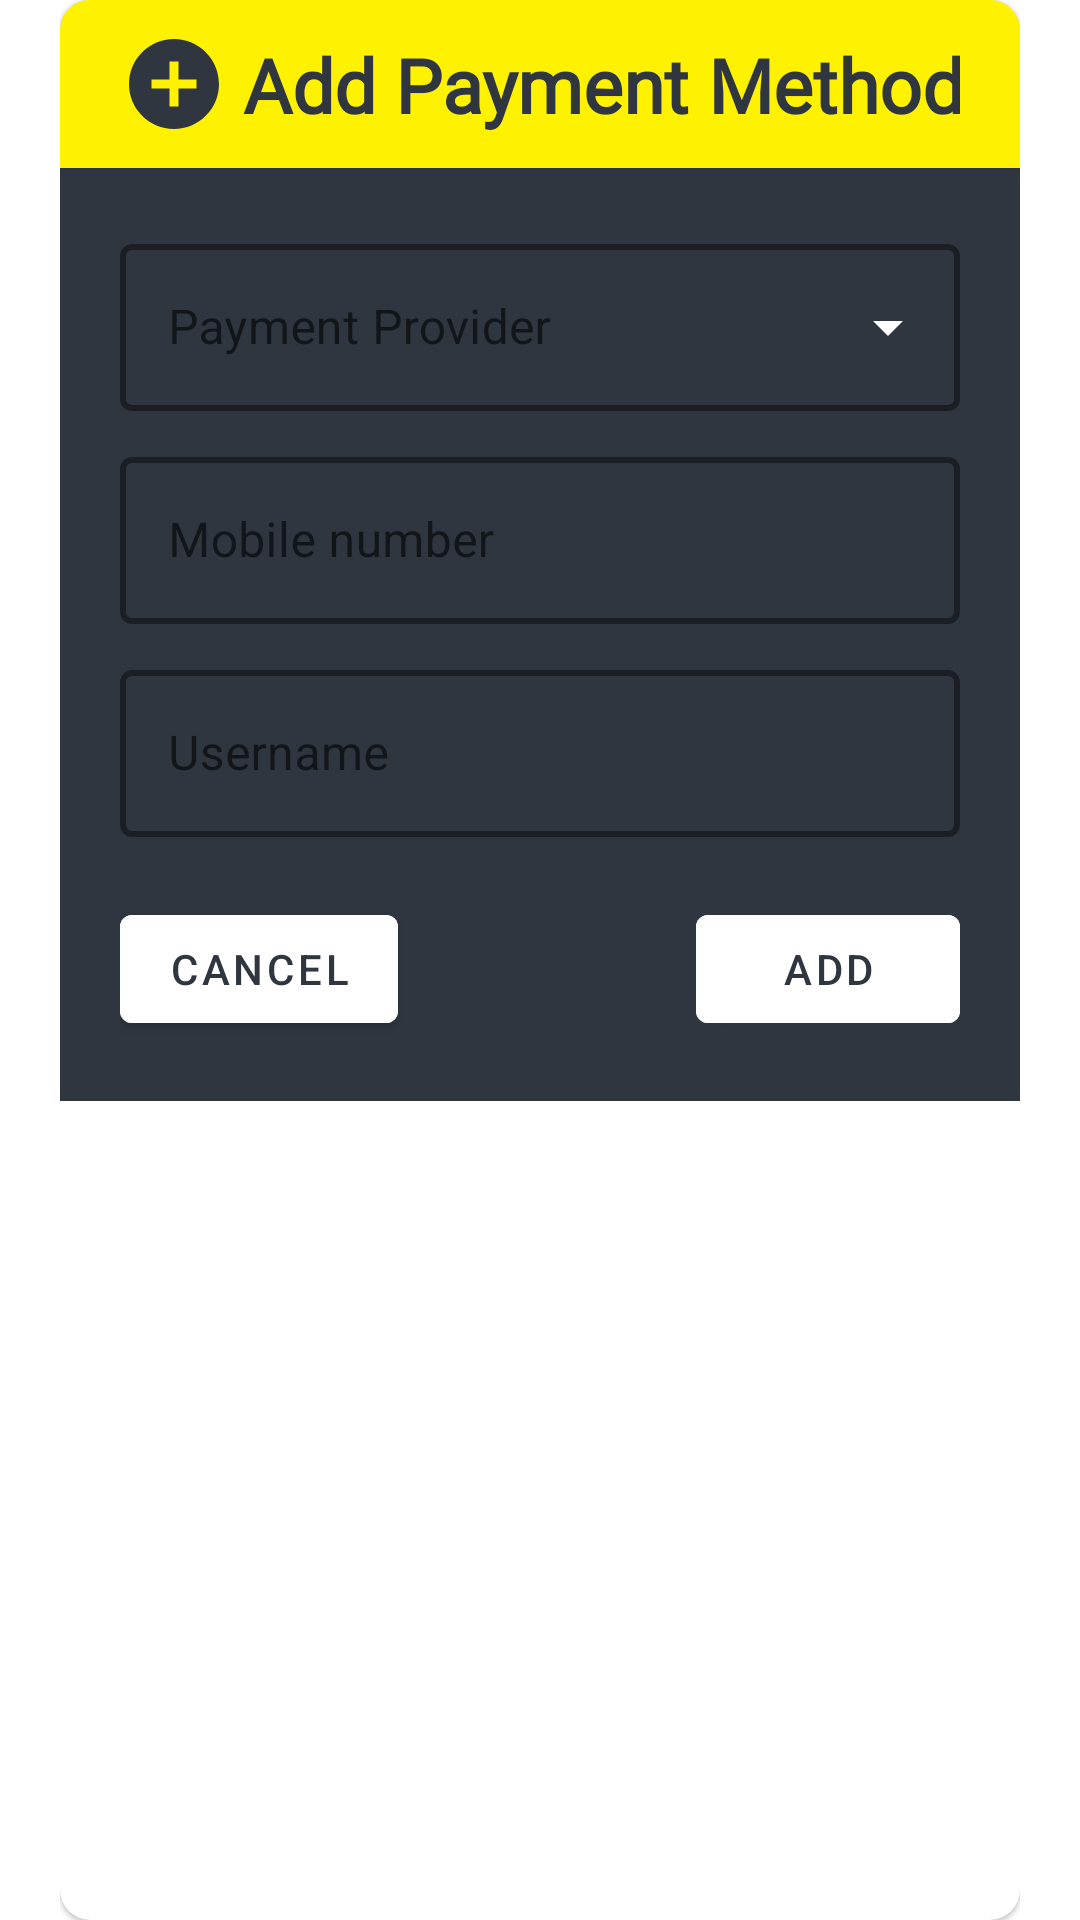

Screen size 1080 × 1920. Icon name, then its box in pixels as {"x1": x1, "y1": y1, "x2": x2, "y2": y2}:
add circle: {"x1": 129, "y1": 39, "x2": 219, "y2": 129}
